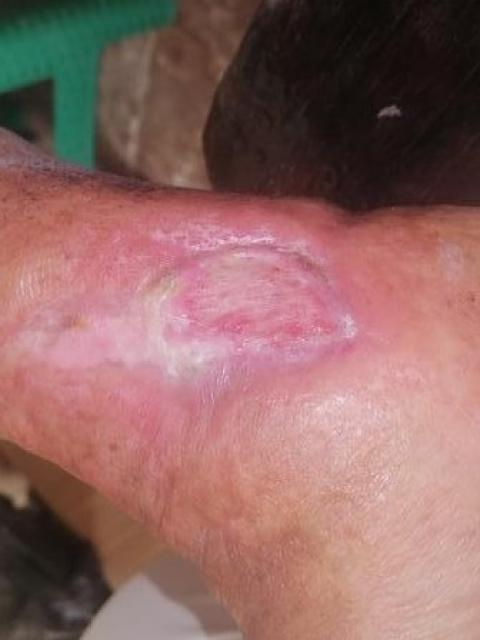wound: (6, 240, 361, 382)
